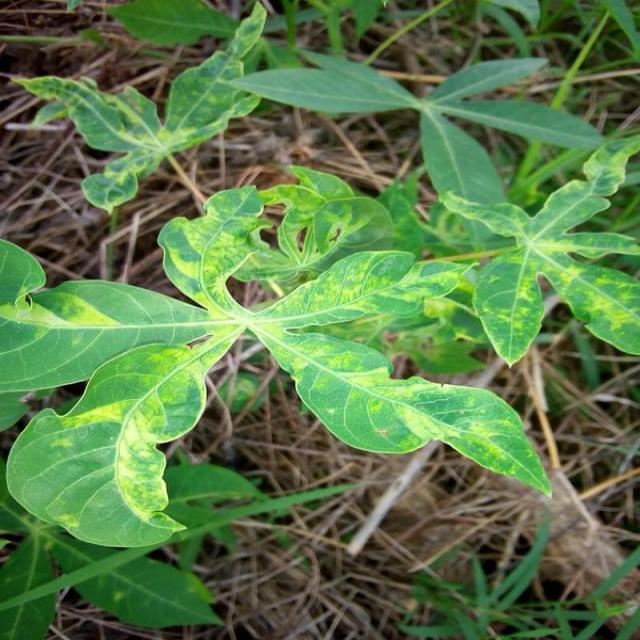cassava leaf: (1, 173, 552, 549)
